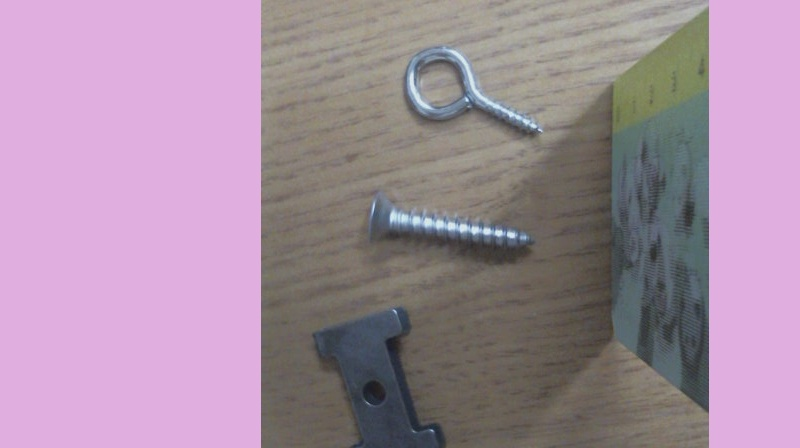O001: (401, 41, 548, 139)
O002: (311, 303, 445, 447)
S001: (367, 188, 537, 252)
